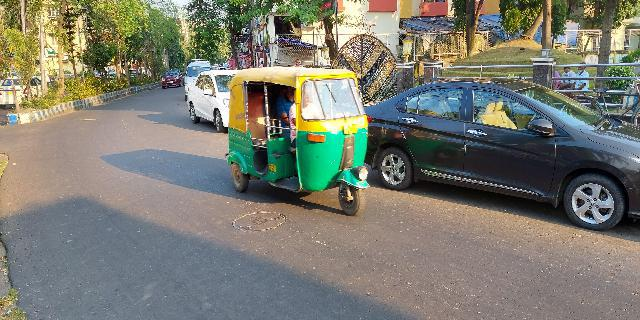Autorickshaw: (223, 65, 377, 218)
Car: (355, 77, 640, 228), (186, 69, 230, 129)
